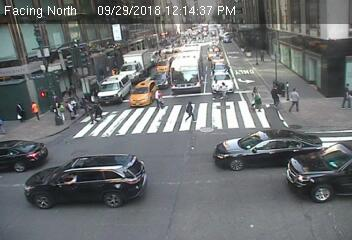car: (24, 155, 147, 209), (213, 132, 324, 169), (287, 143, 349, 204), (172, 41, 201, 93), (1, 137, 45, 169), (118, 50, 152, 78), (130, 78, 158, 109), (96, 77, 129, 102), (210, 70, 232, 94), (155, 56, 170, 73), (210, 61, 231, 73), (153, 73, 170, 86), (207, 46, 226, 57), (151, 51, 159, 63), (162, 45, 171, 53)
